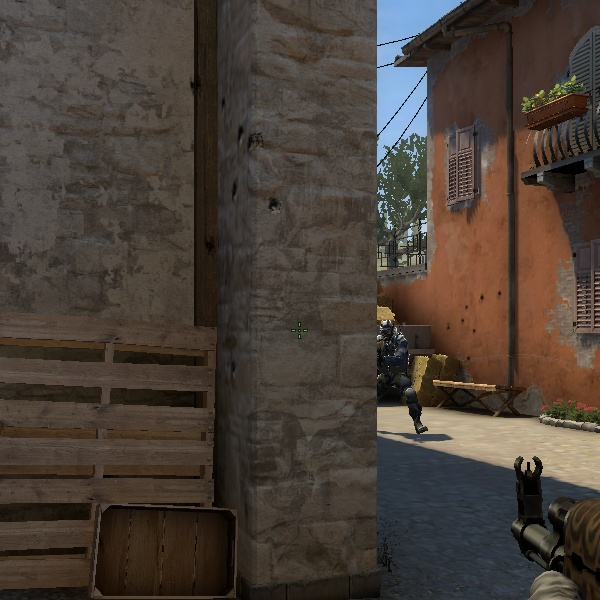ct_body: (369, 319, 429, 438)
